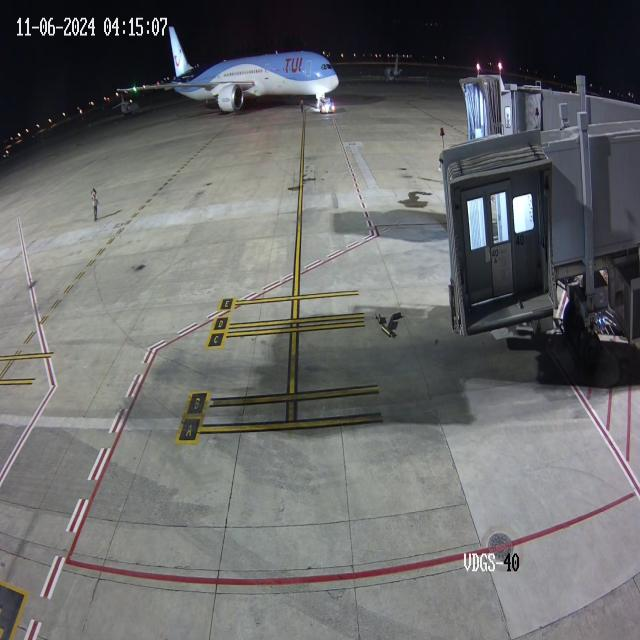bridge: (484, 72, 543, 138)
plane: (110, 0, 346, 133)
window: (318, 61, 334, 72)
